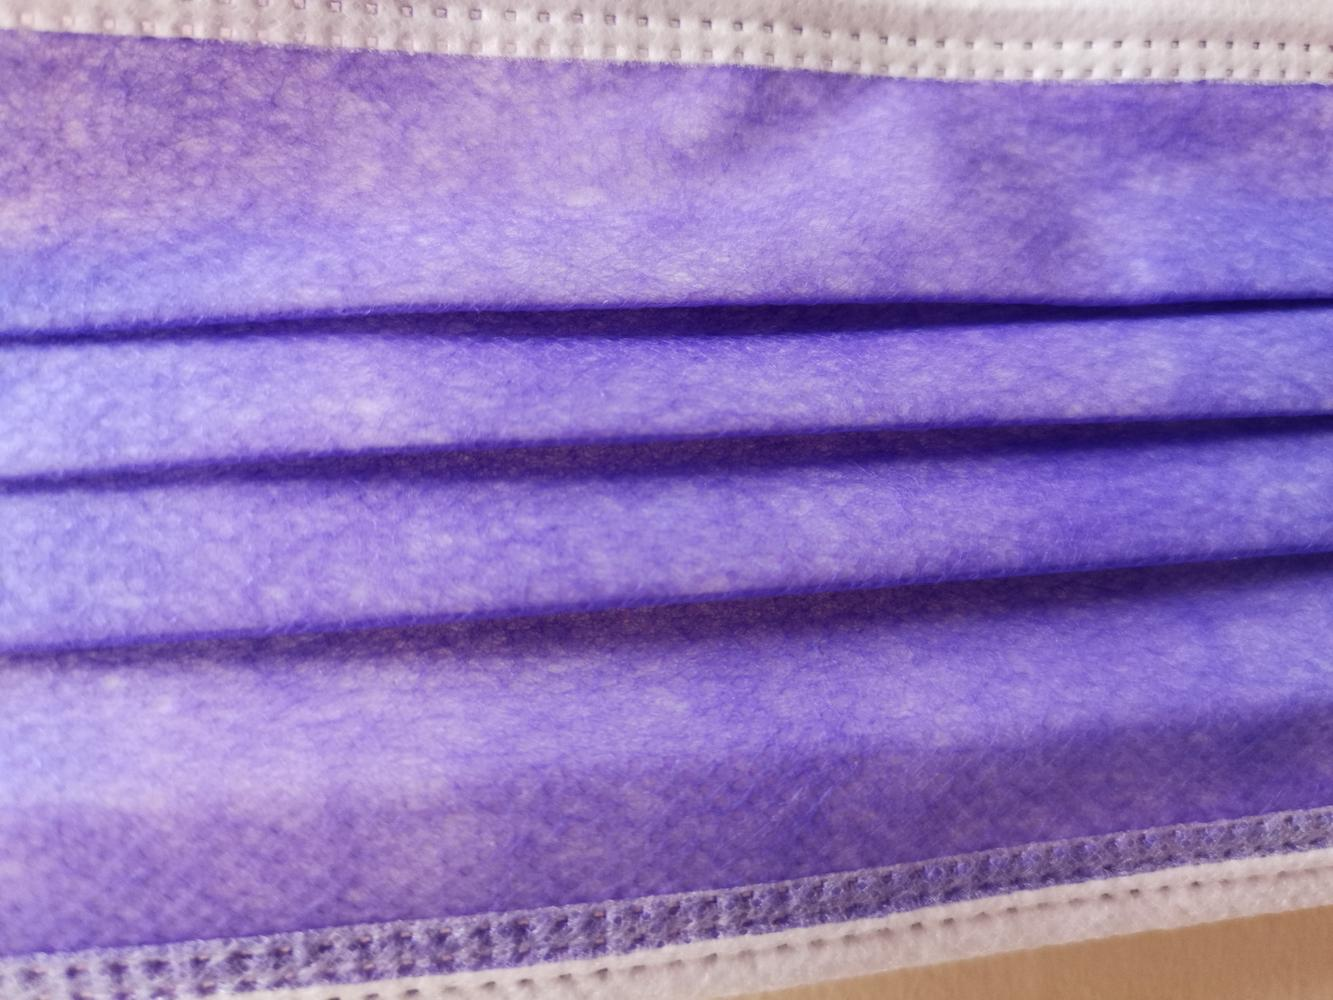Face Mask: (2, 5, 1330, 1000)
